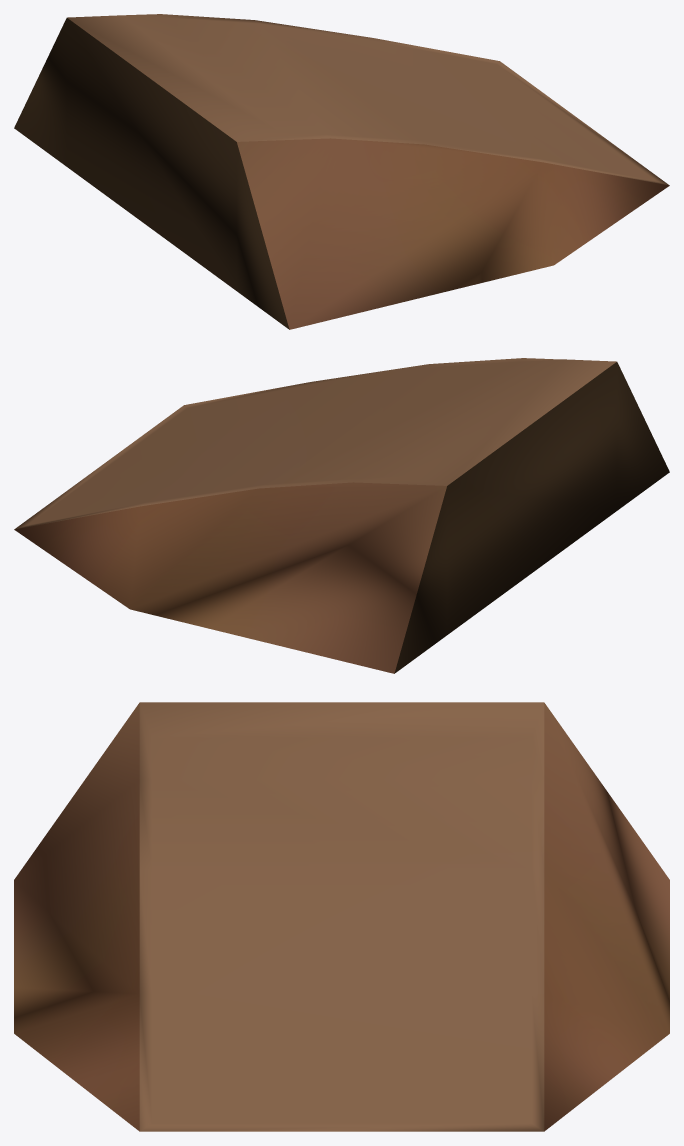
The model's file is DirtBikeTrackJumpLanding.glb.
The picture shows the model from 3 angles, top to bottom: view 1: azimuth 30°, elevation 25°; view 2: azimuth 150°, elevation 25°; view 3: azimuth 270°, elevation 25°; orthographic projection. The views are drawn at different scales.
Visible parts, largest first — view 1: DirtBikeTrackJumpLanding; view 2: DirtBikeTrackJumpLanding; view 3: DirtBikeTrackJumpLanding.
Part boxes in pixels (bbox=[...]): DirtBikeTrackJumpLanding: bbox=[14, 14, 669, 329]; DirtBikeTrackJumpLanding: bbox=[14, 358, 669, 673]; DirtBikeTrackJumpLanding: bbox=[14, 702, 669, 1131].
Size of the model in its own units: 5.89 by 1.94 by 6.49.
1 material, 1 textured.
